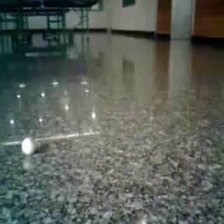w: (20, 136, 36, 155)
